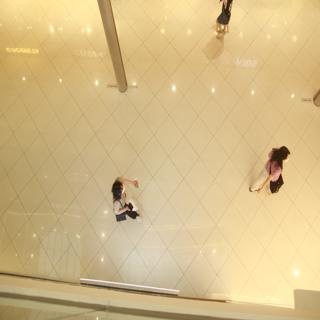person: (251, 136, 294, 199), (111, 172, 156, 231)
